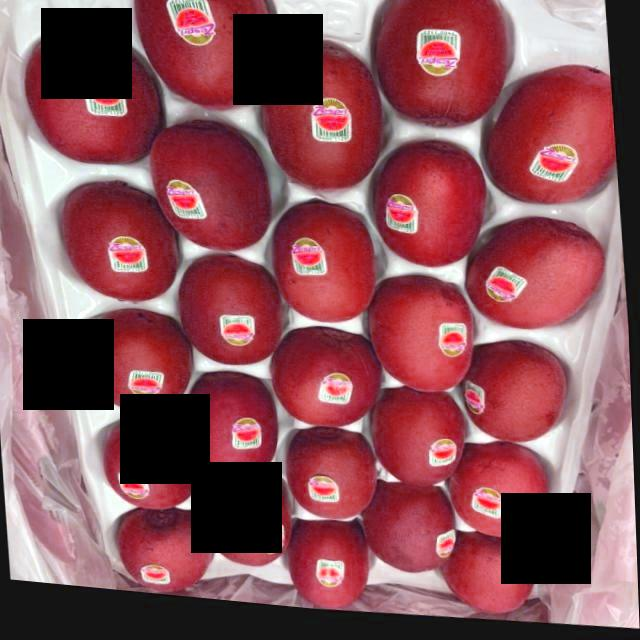kiwi: (482, 58, 625, 217), (369, 2, 520, 143), (263, 42, 389, 206), (26, 41, 167, 186), (467, 214, 614, 342), (152, 123, 278, 266), (59, 190, 188, 323), (371, 142, 493, 279), (271, 205, 387, 337), (367, 276, 478, 403), (271, 327, 391, 442), (179, 259, 290, 383), (459, 335, 570, 451), (86, 319, 200, 431), (447, 440, 557, 549), (370, 389, 466, 499), (103, 422, 201, 526), (282, 429, 380, 533), (440, 531, 542, 625), (356, 488, 457, 582), (202, 476, 292, 581), (116, 517, 217, 609), (289, 525, 373, 619)
